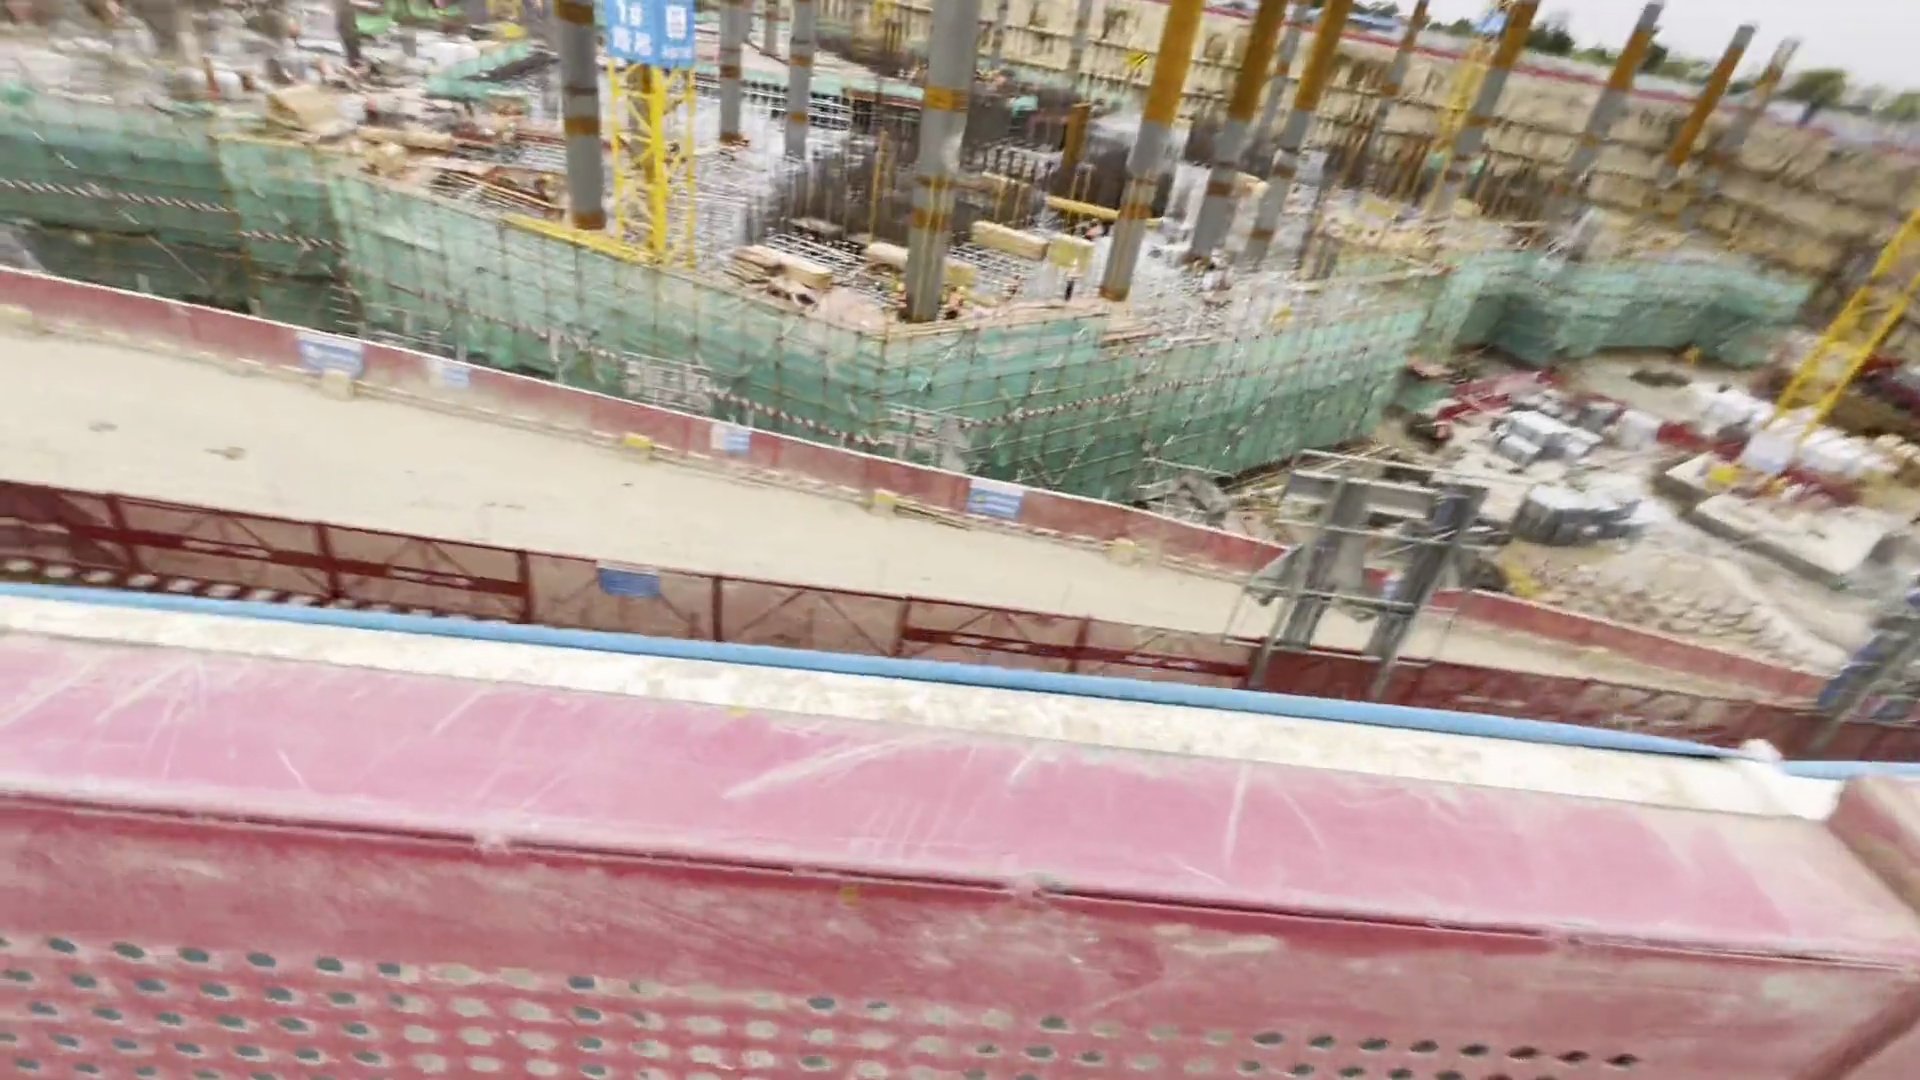fence: (26, 236, 1820, 782), (158, 531, 1844, 1080)
slogan: (287, 310, 501, 409), (591, 527, 725, 638), (676, 385, 796, 501), (947, 463, 1060, 545)
